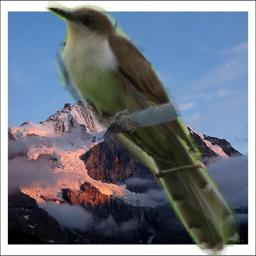Cuckoo: (44, 0, 240, 255)
